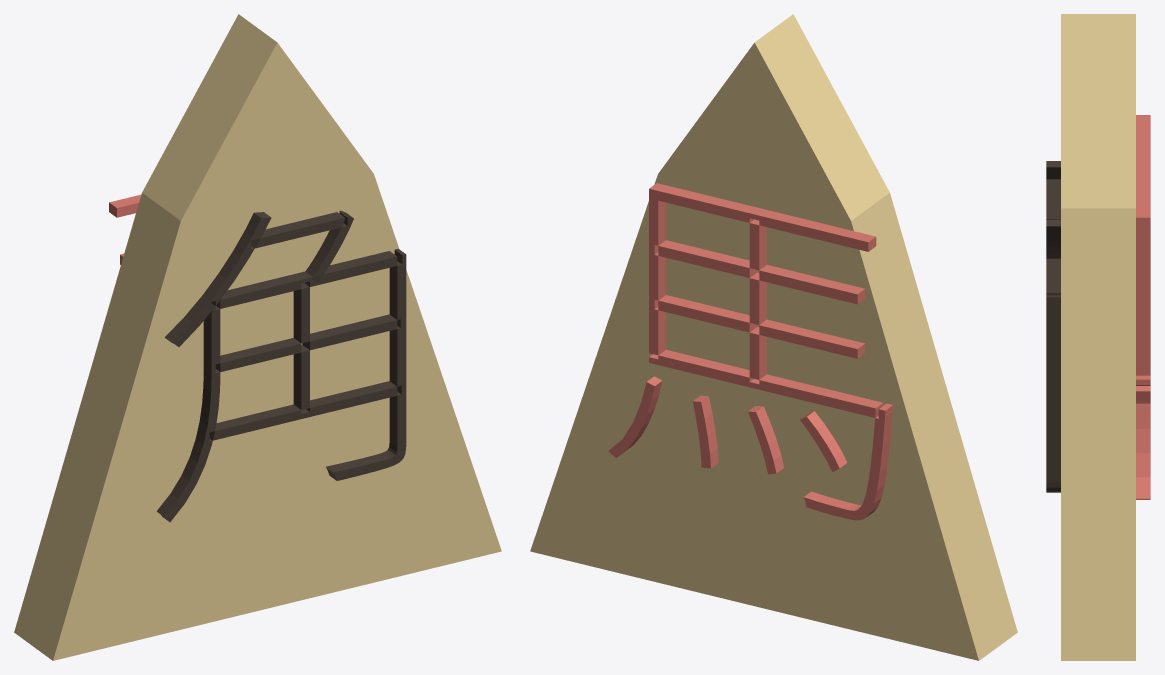
Rendered from koma-kaku.glb.
3 views of the same model, side by side, from view 1: azimuth 30°, elevation 25°; view 2: azimuth 150°, elevation 25°; view 3: azimuth 270°, elevation 25° (orthographic). The views are drawn at different scales.
Parts seen in each view (by area): view 1: world; view 2: world; view 3: world.
Part boxes in pixels (bbox=[...]): world: bbox=[14, 14, 501, 660]; world: bbox=[530, 14, 1017, 660]; world: bbox=[1046, 14, 1150, 660].
Size of the model in its own units: 2 by 2.4 by 0.42.
